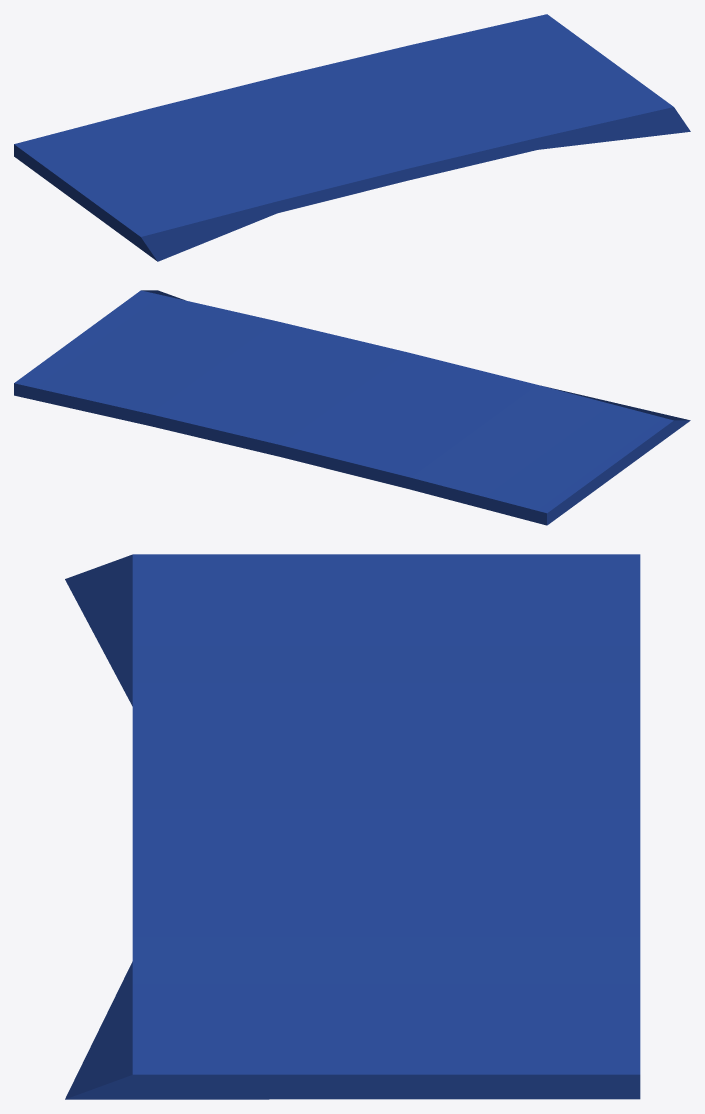
The model's file is strada_evo_boot.glb.
3 views of the same model, one above another, from view 1: azimuth 30°, elevation 25°; view 2: azimuth 150°, elevation 25°; view 3: azimuth 270°, elevation 25° (orthographic). The views are drawn at different scales.
Visible parts, largest first — view 1: strada_evo_boot; view 2: strada_evo_boot; view 3: strada_evo_boot.
Boxes of the visible parts, x1,y1,x2,y2 form: strada_evo_boot: [14, 14, 690, 261]; strada_evo_boot: [14, 290, 690, 525]; strada_evo_boot: [65, 554, 640, 1099].
Bounding box in the file's own units: 1.42 × 0.0394 × 0.6615.
